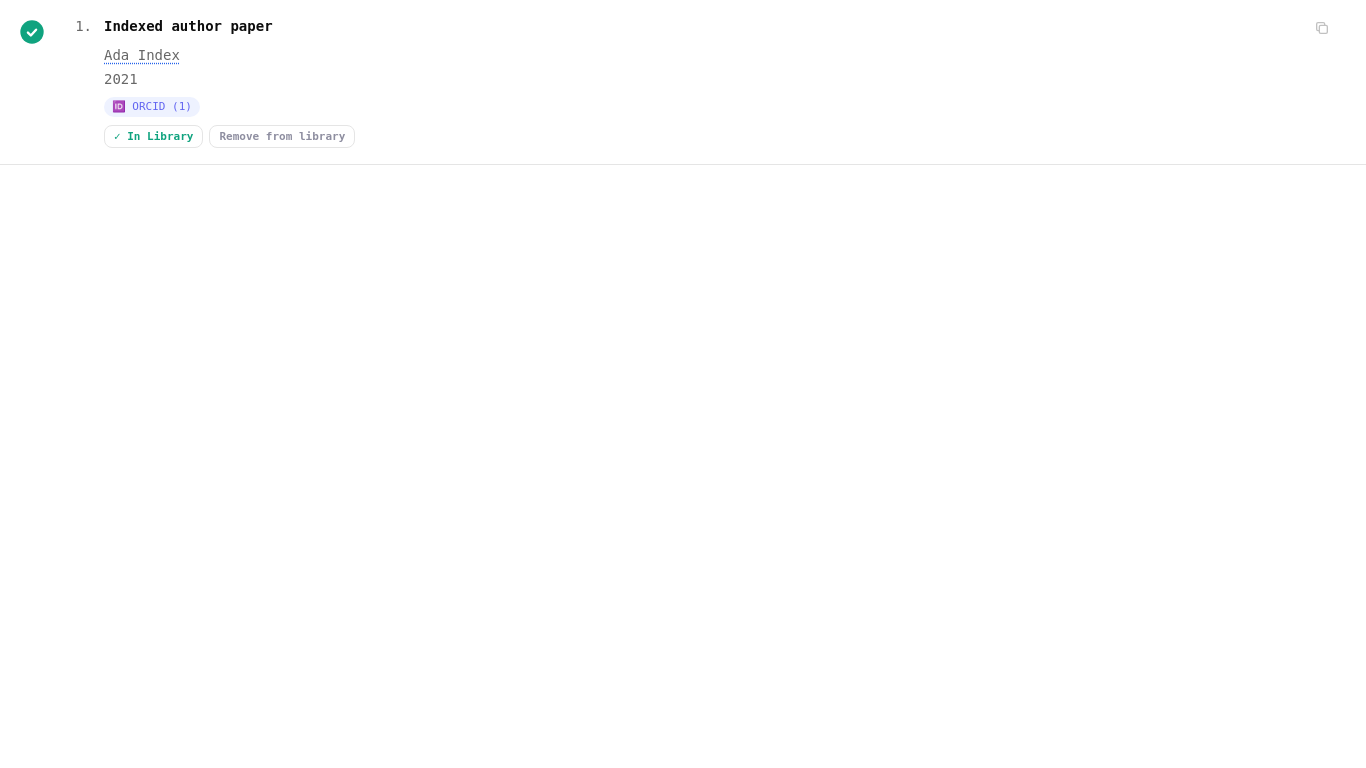
Scenario: ReferenceCard — author UI cluster (D1) › shows the i10-index alongside the h-index when the profile carries it
Click the link "Ada Index".
click(142, 55)  # box [104,47,180,63]
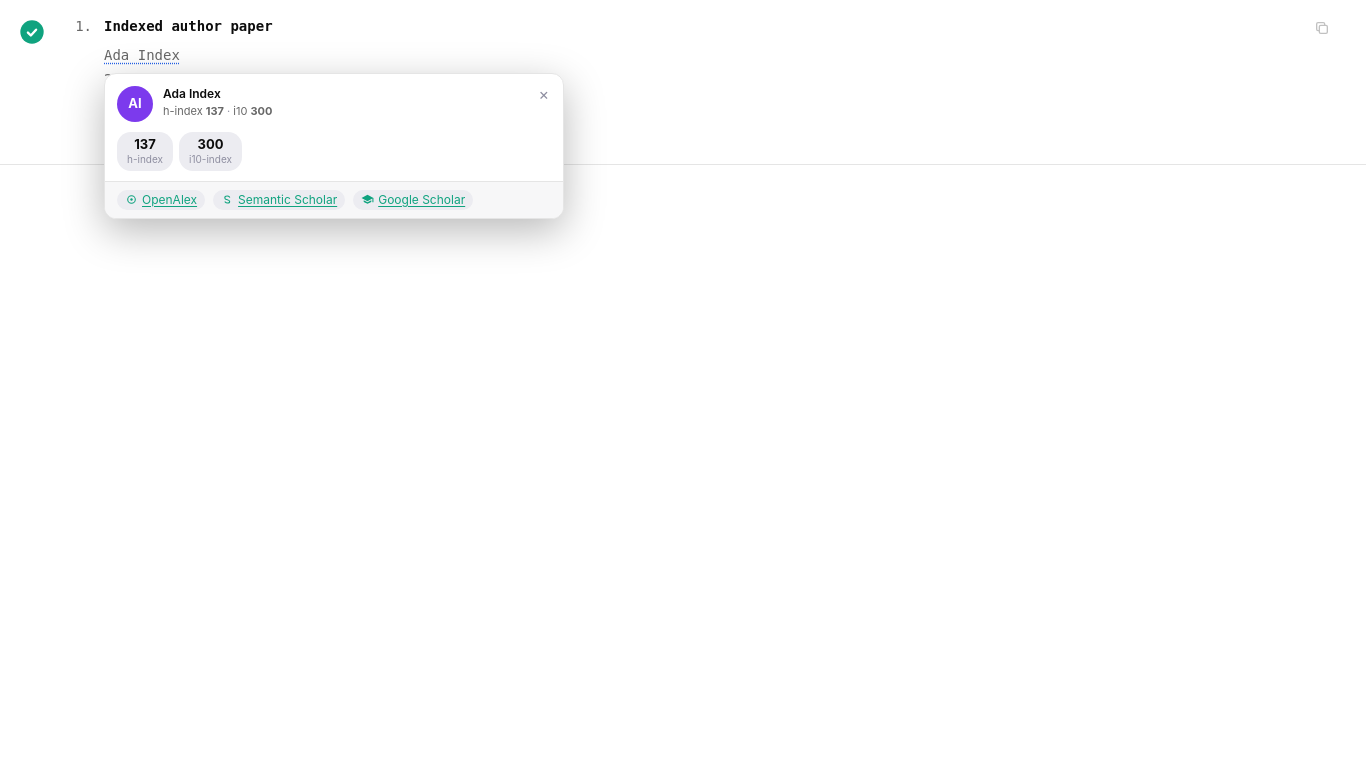
Expected: the text "300" in the row of "AI" is shown, [250,104,272,118]
Expected: the text "137" in the row of "AI" is shown, [206,104,224,118]
Expected: the number of elements titled "i10-index (OpenAlex)" is 2, [233,104,272,118]; [179,132,242,171]
